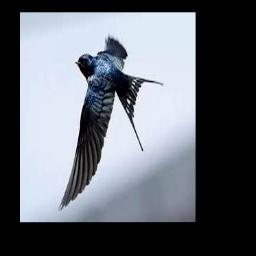Swallow: (58, 34, 163, 212)
